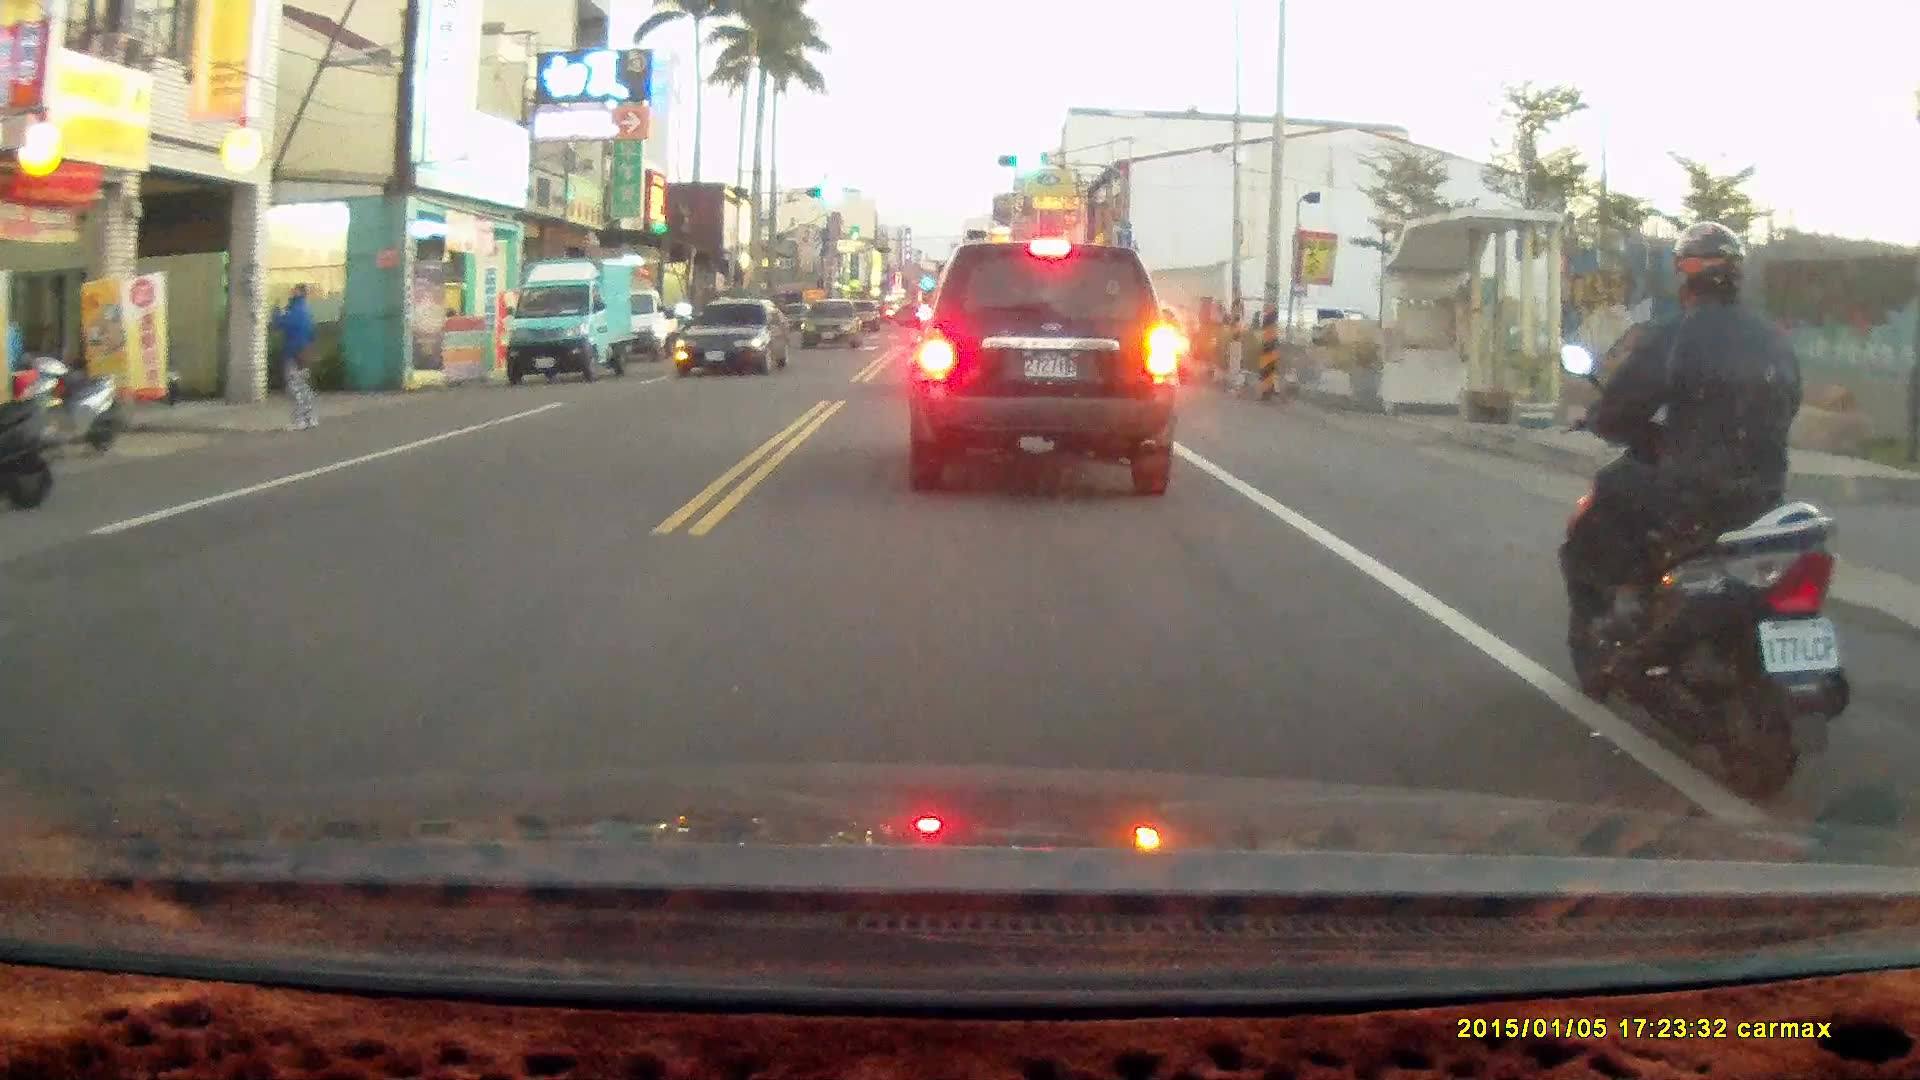pedestrian: (265, 278, 324, 433)
rider: (1556, 218, 1851, 804)
vehicle: (903, 236, 1183, 496), (507, 254, 639, 384), (673, 297, 795, 378), (800, 300, 865, 353)
